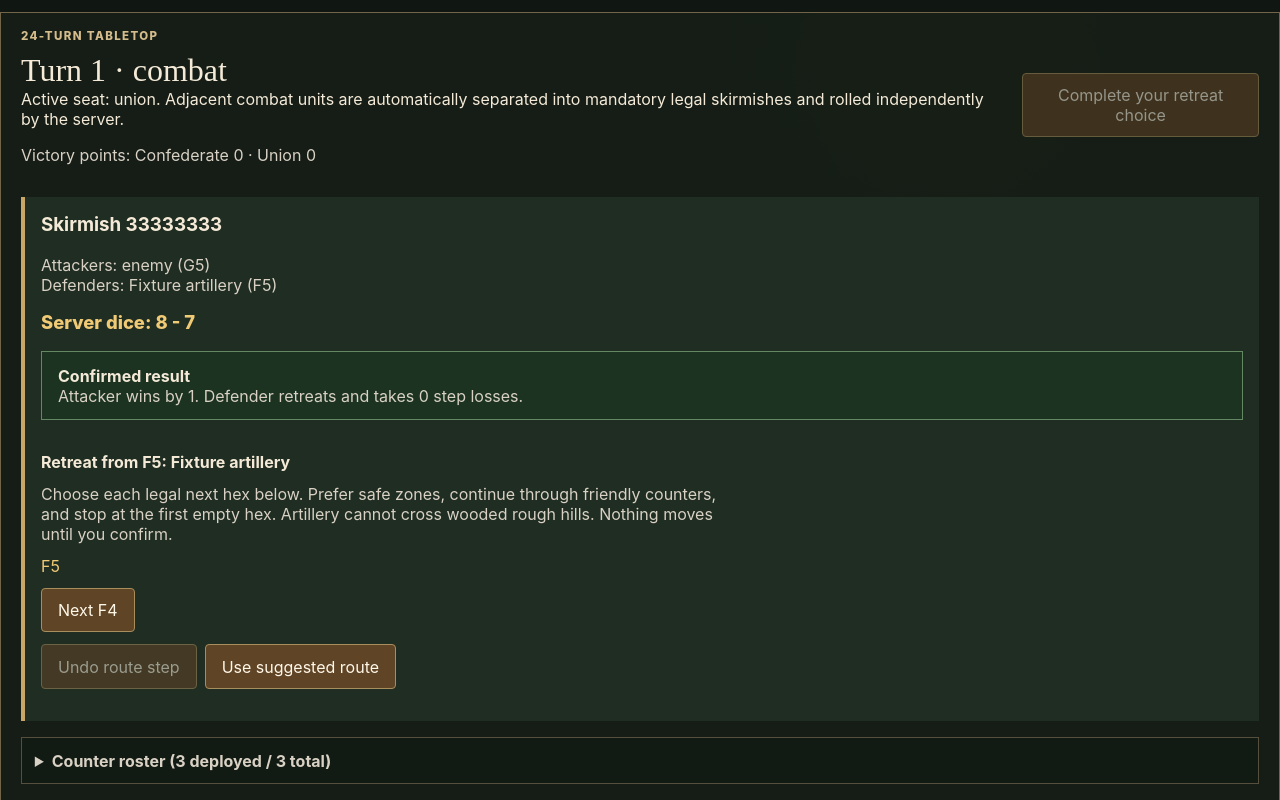
Test case: mandatory retreat controls › supports undo and suggested routes without committing
The width and height of the screenshot is (1280, 800).
Click the button "Use suggested route": (300, 667) [205,644,396,689]
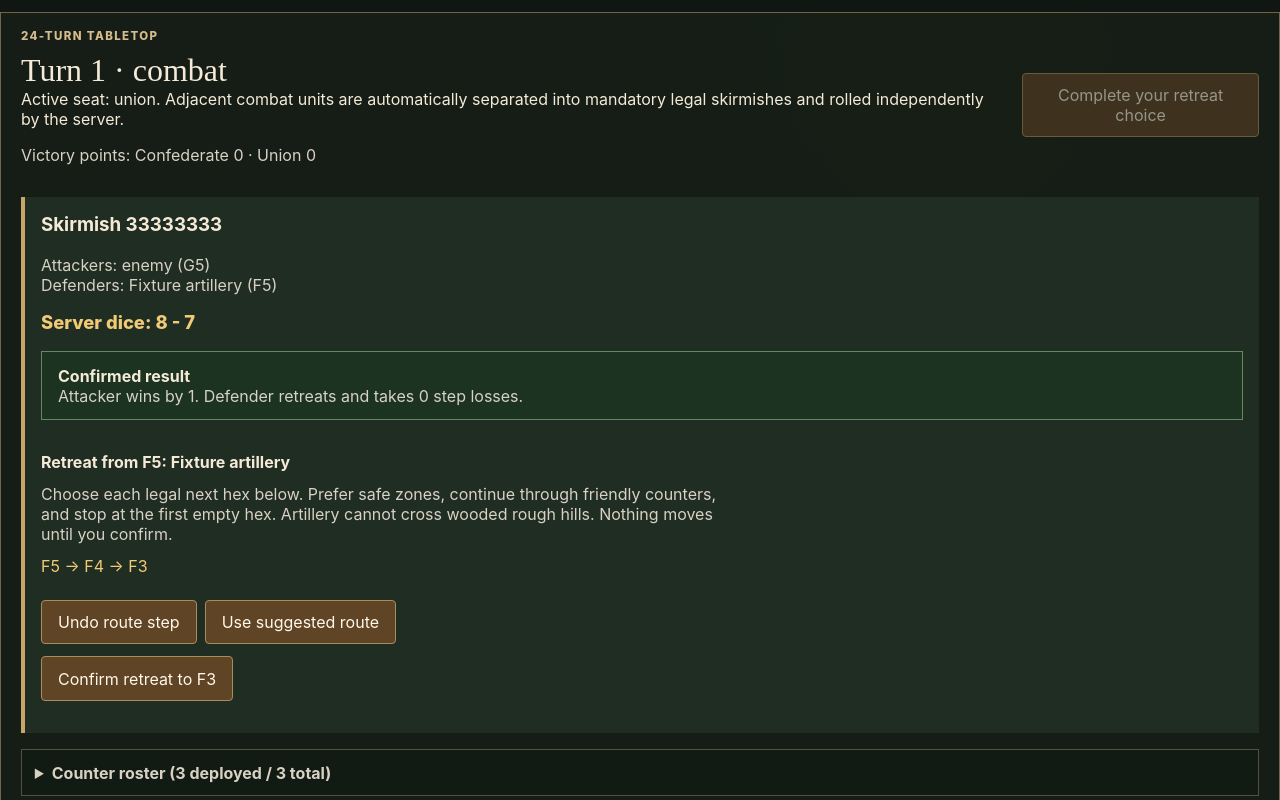
Expected: the button "Confirm retreat to F3" is enabled, [41,656,233,701]
Click the button "Undo route step": (119, 622) [41,600,197,644]
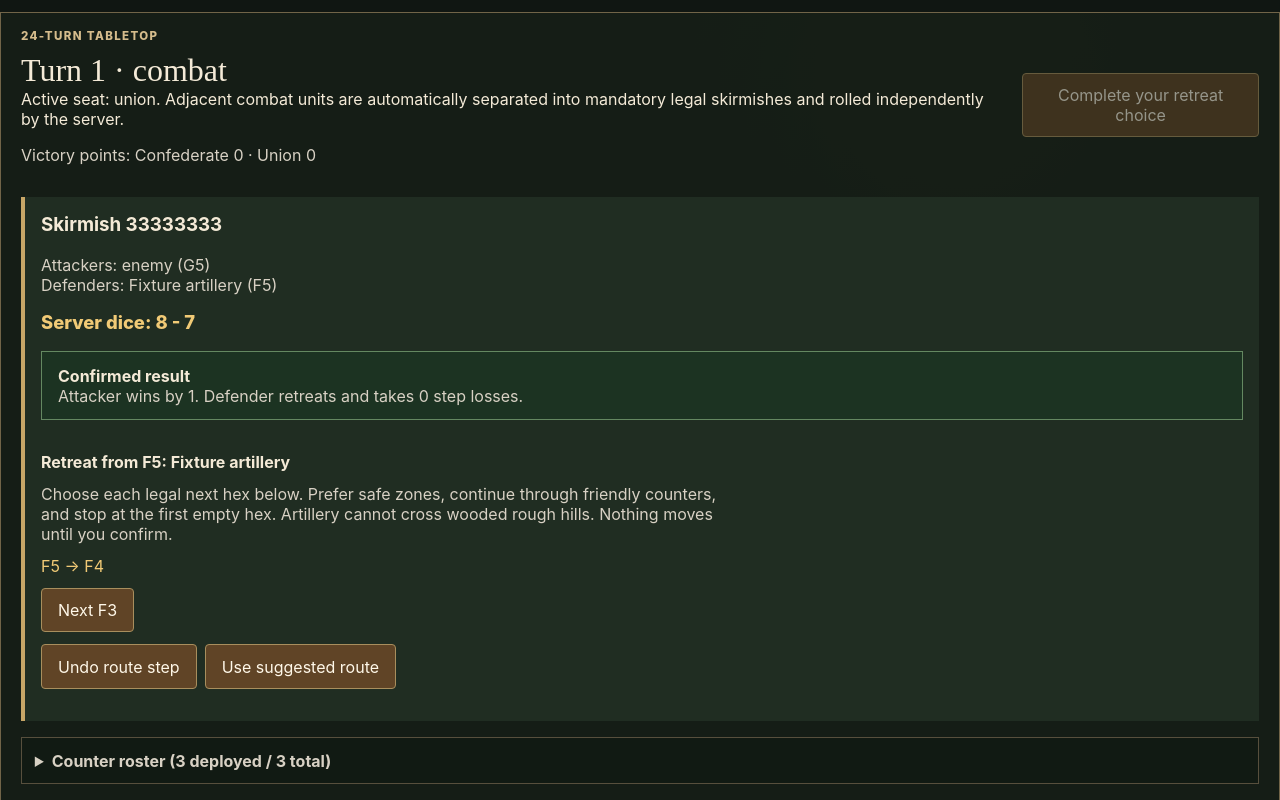
Expected: the button "Next F3" is enabled, [41,588,134,632]
Now the button "Confirm retreat" is gone
